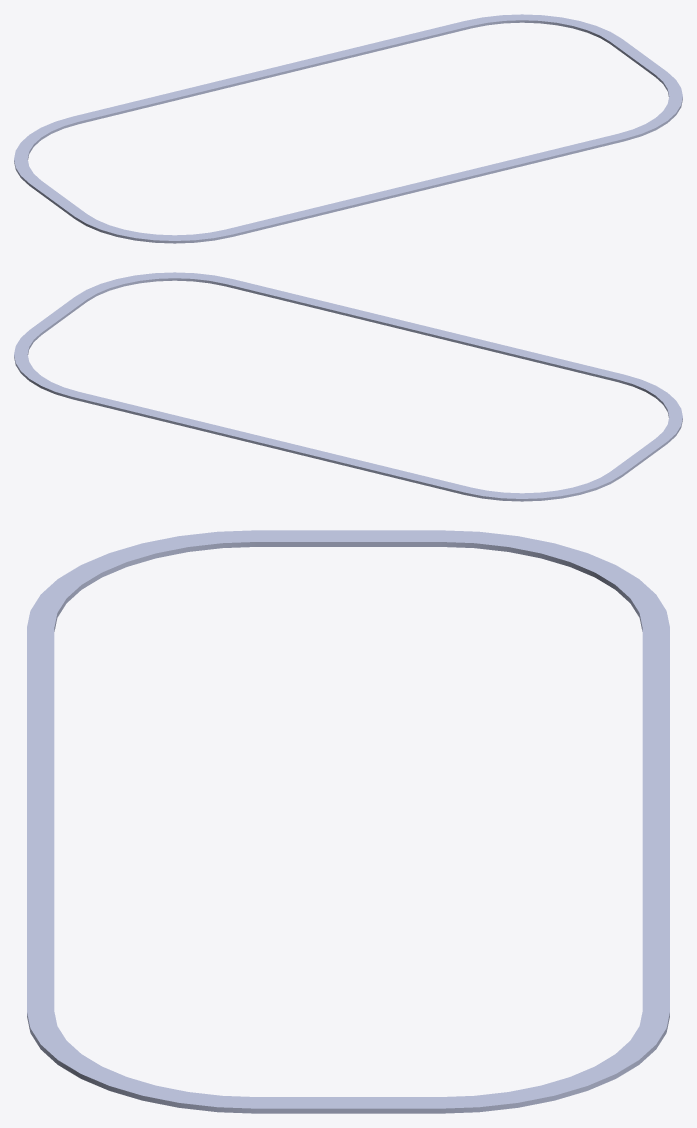
Rendered from Track2.obj.
3 renders of one model, top to bottom at view 1: azimuth 30°, elevation 25°; view 2: azimuth 150°, elevation 25°; view 3: azimuth 270°, elevation 25°, orthographic. The views are drawn at different scales.
Parts seen in each view (by area): view 1: mesh 1 Track2; view 2: mesh 1 Track2; view 3: mesh 1 Track2.
Part boxes in pixels (x1,y1,x2,y2): mesh 1 Track2: (14,14,682,243); mesh 1 Track2: (14,272,682,501); mesh 1 Track2: (27,530,669,1113).
Bounding box in the file's own units: 0.1265 × 0.000508 × 0.0595.
